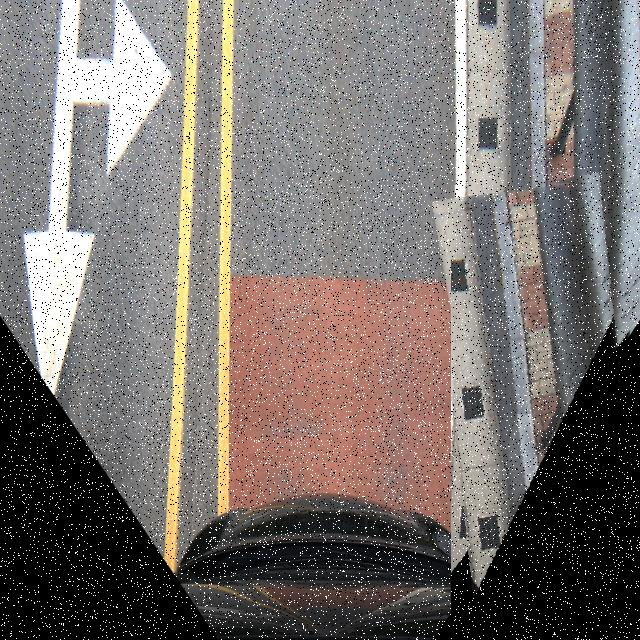forward_left: (451, 177, 640, 640)
